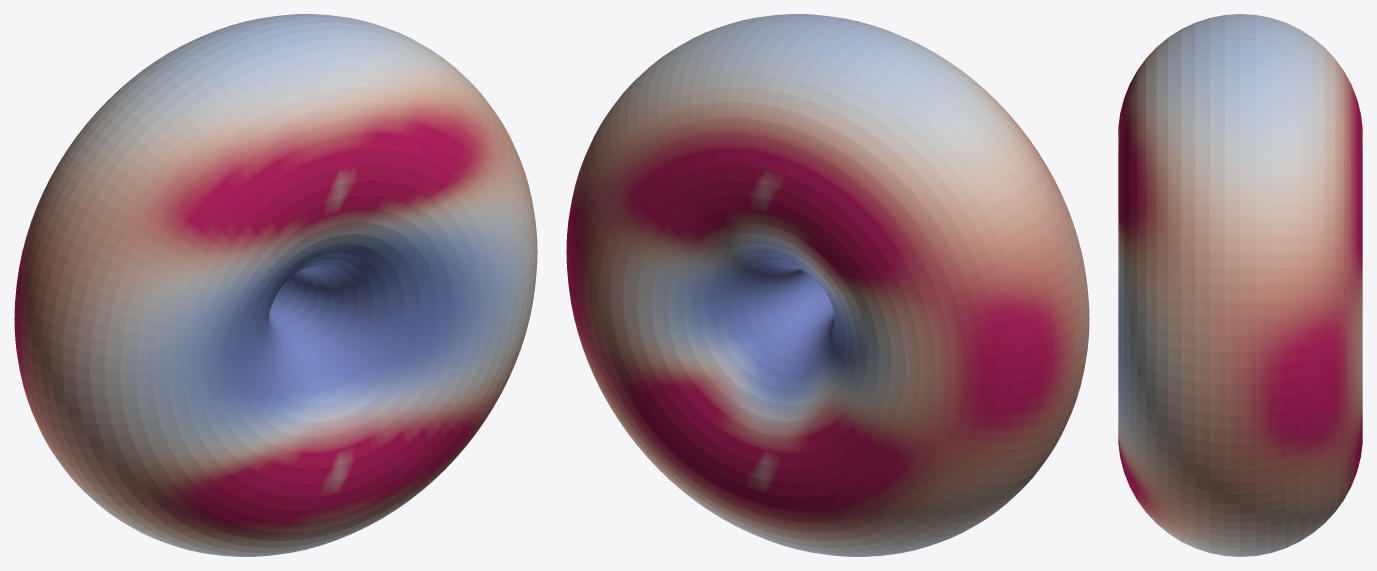
The picture shows the model from 3 angles, left to right: view 1: azimuth 30°, elevation 25°; view 2: azimuth 150°, elevation 25°; view 3: azimuth 270°, elevation 25°; orthographic projection. The views are drawn at different scales.
Parts seen in each view (by area): view 1: world; view 2: world; view 3: world.
Part boxes in pixels (x1,y1,x2,y2): world: (14, 14, 537, 556); world: (566, 14, 1089, 556); world: (1118, 14, 1362, 556).
Bounding box in the file's own units: 18.22 × 18.22 × 8.21.
